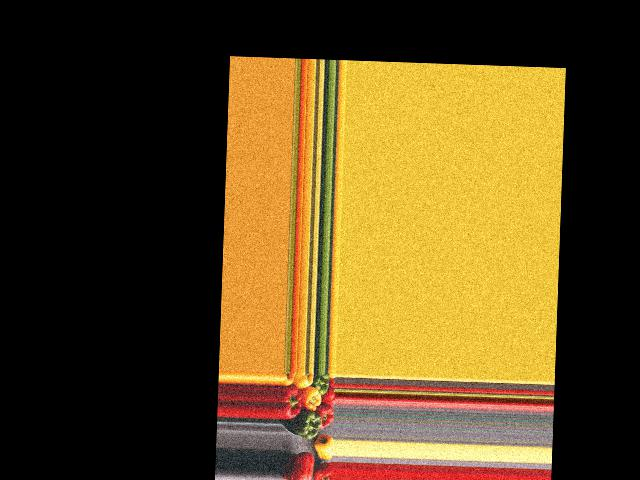bell_pepper: (314, 461, 330, 480)
